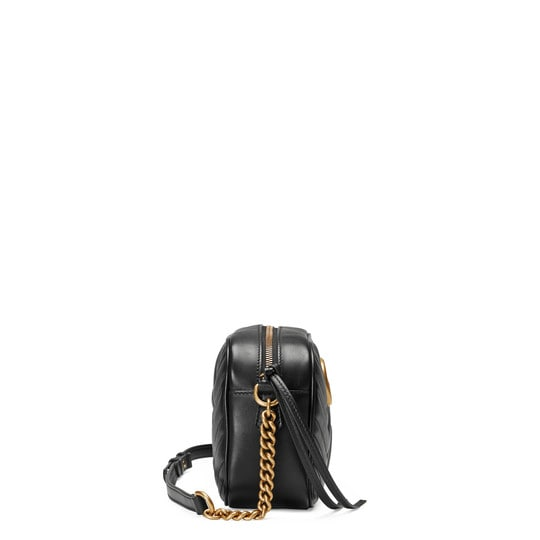Gucci: (187, 323, 361, 517)
